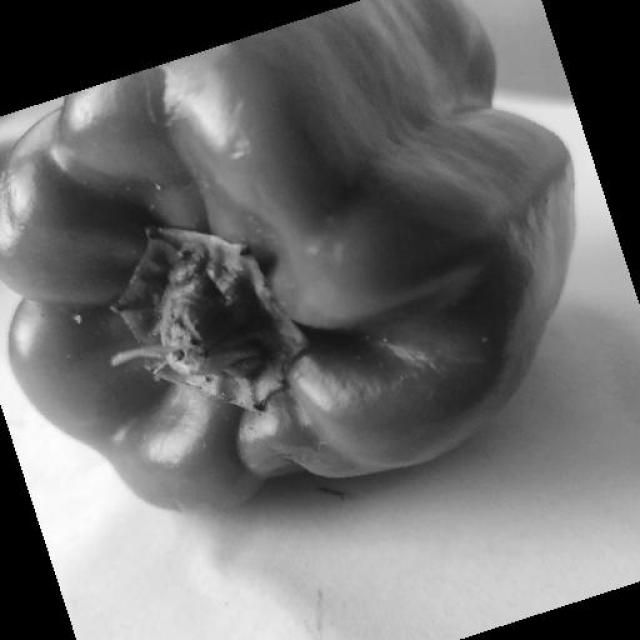Fresh_Capsicum: (10, 89, 640, 484)
